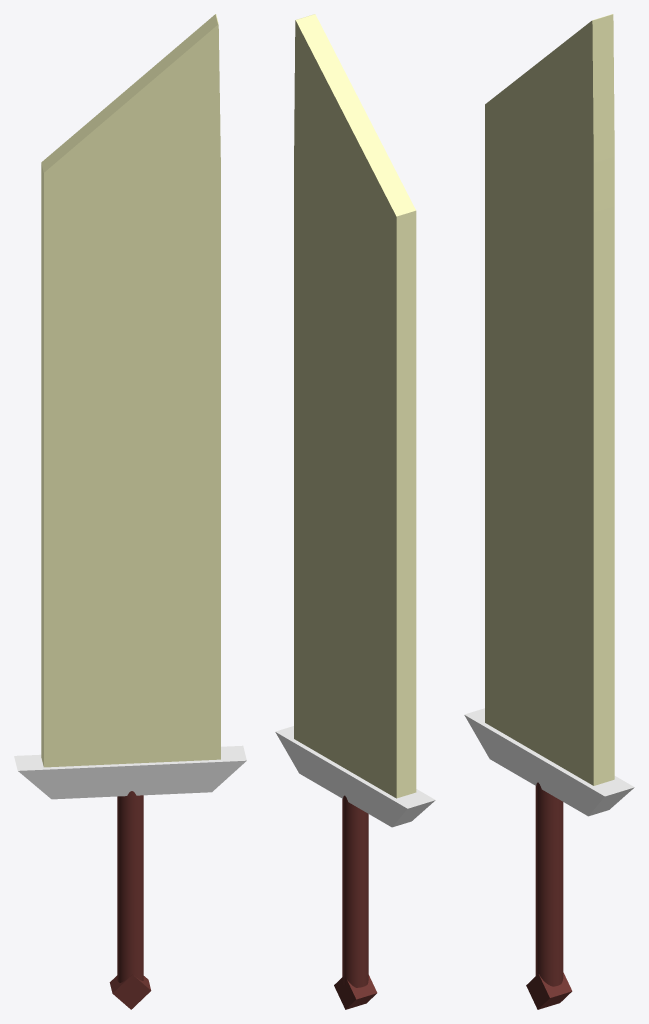
File: sword.obj
The picture shows the model from 3 angles, left to right: view 1: azimuth 30°, elevation 25°; view 2: azimuth 150°, elevation 25°; view 3: azimuth 330°, elevation 25°; orthographic projection. The views are drawn at different scales.
Parts seen in each view (by area): view 1: Loft.2, Cube.1, Cylinder, Cube; view 2: Loft.2, Cylinder, Cube.1, Cube; view 3: Loft.2, Cylinder, Cube.1, Cube.
Boxes of the visible parts, bbox=[...] form: Loft.2: bbox=[41, 14, 220, 767]; Cube.1: bbox=[14, 745, 246, 799]; Cylinder: bbox=[117, 791, 143, 982]; Cube: bbox=[109, 974, 151, 1009]; Loft.2: bbox=[294, 14, 416, 798]; Cylinder: bbox=[342, 795, 368, 987]; Cube.1: bbox=[275, 726, 435, 827]; Cube: bbox=[334, 975, 377, 1009]; Loft.2: bbox=[485, 14, 614, 785]; Cylinder: bbox=[535, 782, 563, 986]; Cube.1: bbox=[464, 708, 634, 816]; Cube: bbox=[526, 972, 572, 1009].
Bounding box in the file's own units: 253 × 1216 × 142.
